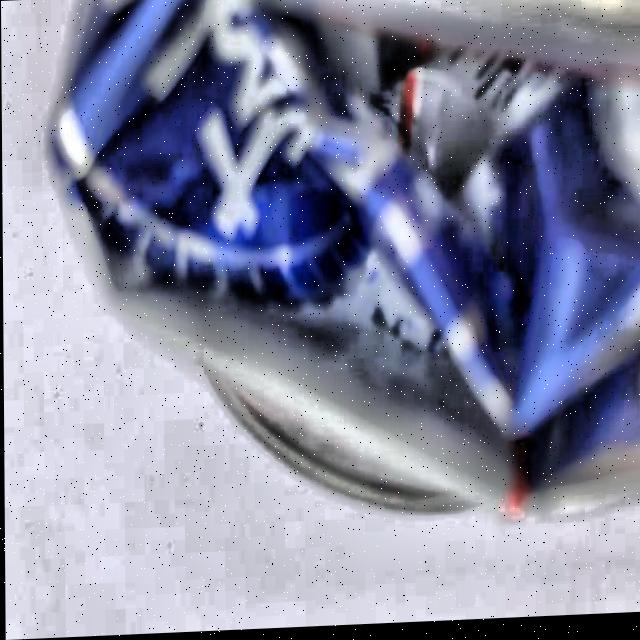metal: (49, 0, 640, 542)
